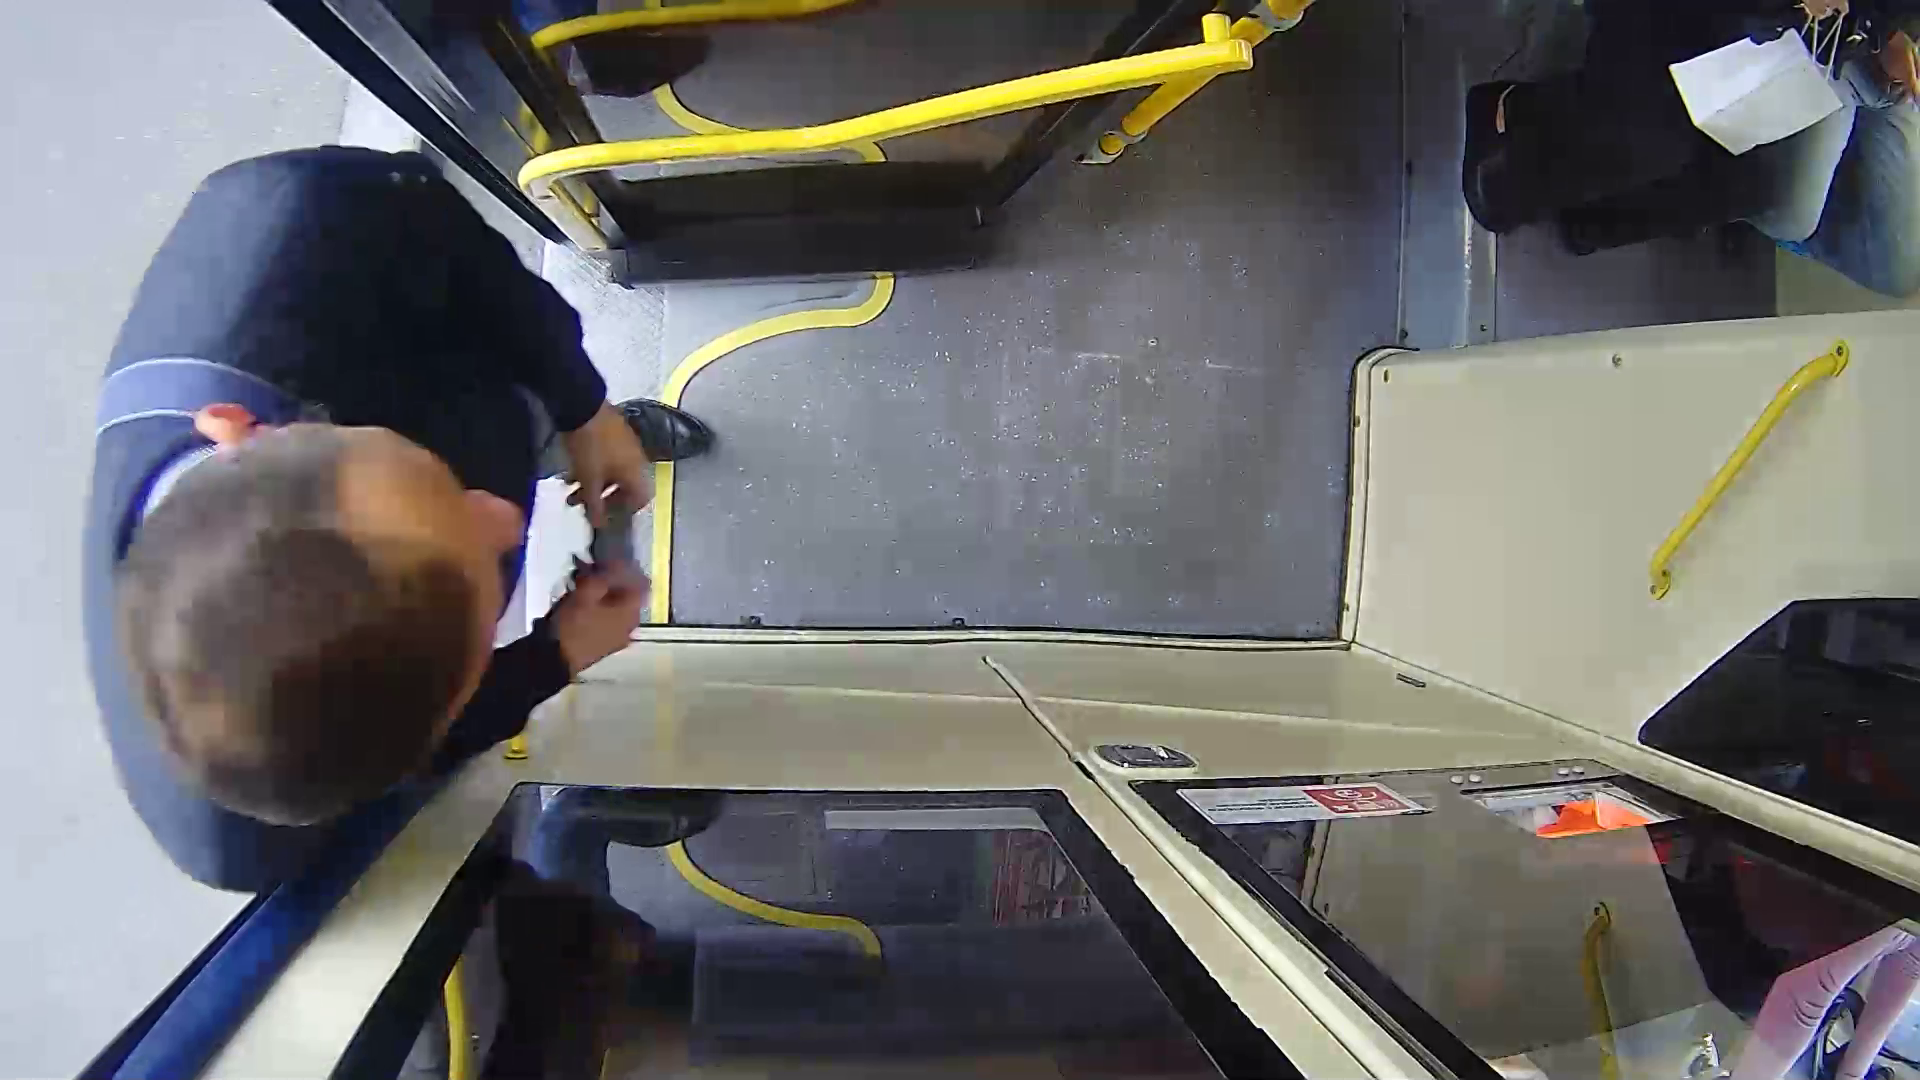person: (92, 126, 807, 868)
